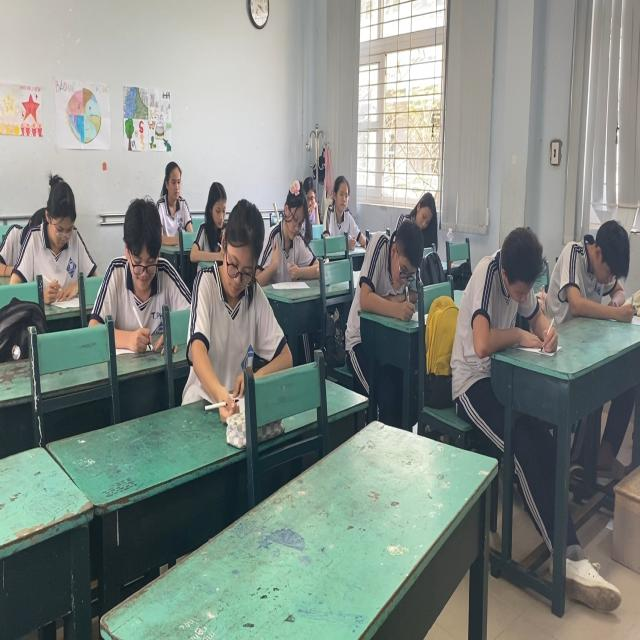not_cheating: (187, 181, 278, 398), (98, 198, 183, 342), (474, 236, 546, 367), (553, 219, 630, 322), (21, 181, 96, 281), (261, 174, 313, 277), (356, 229, 422, 298), (319, 174, 365, 250), (160, 163, 200, 243), (403, 185, 443, 236)
